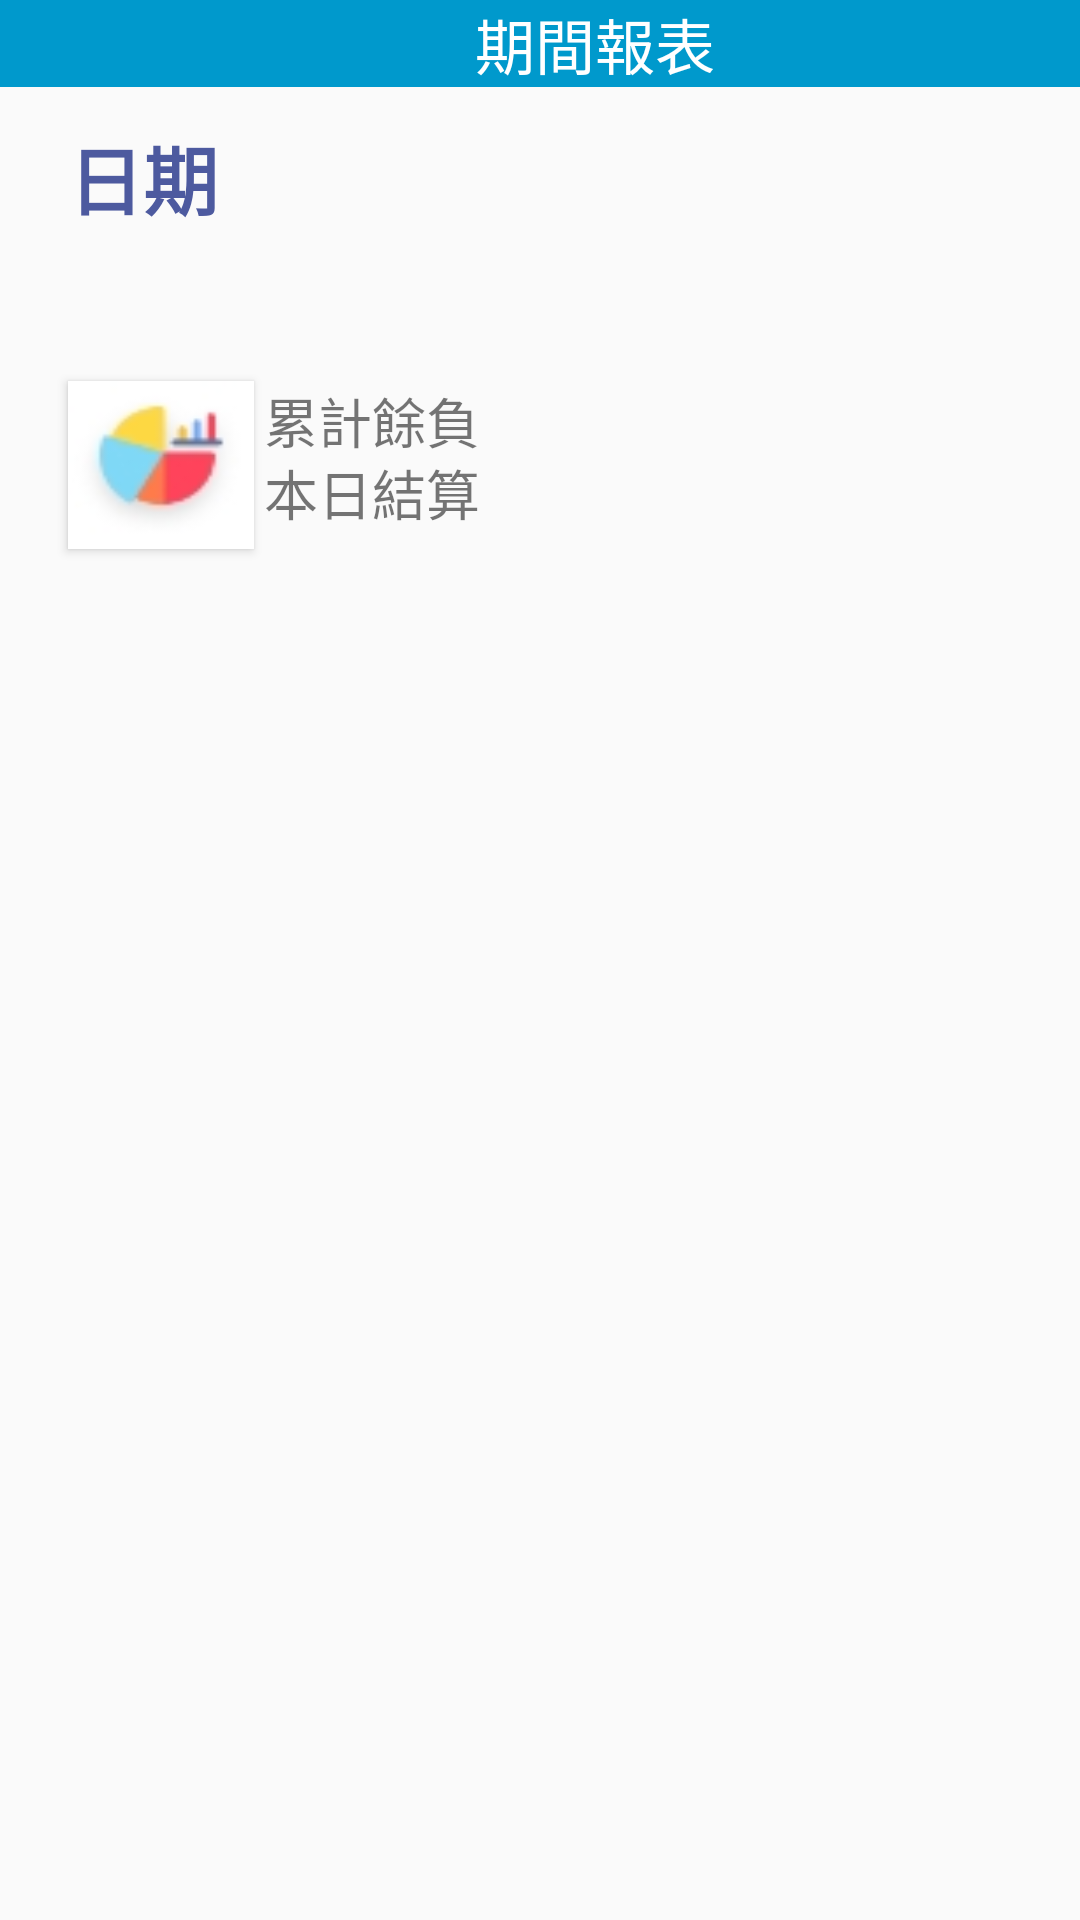

Icon click points for this 1080px x 1920px phone screenshot, format (x=x, y=y):
graph: (x=160, y=457)
